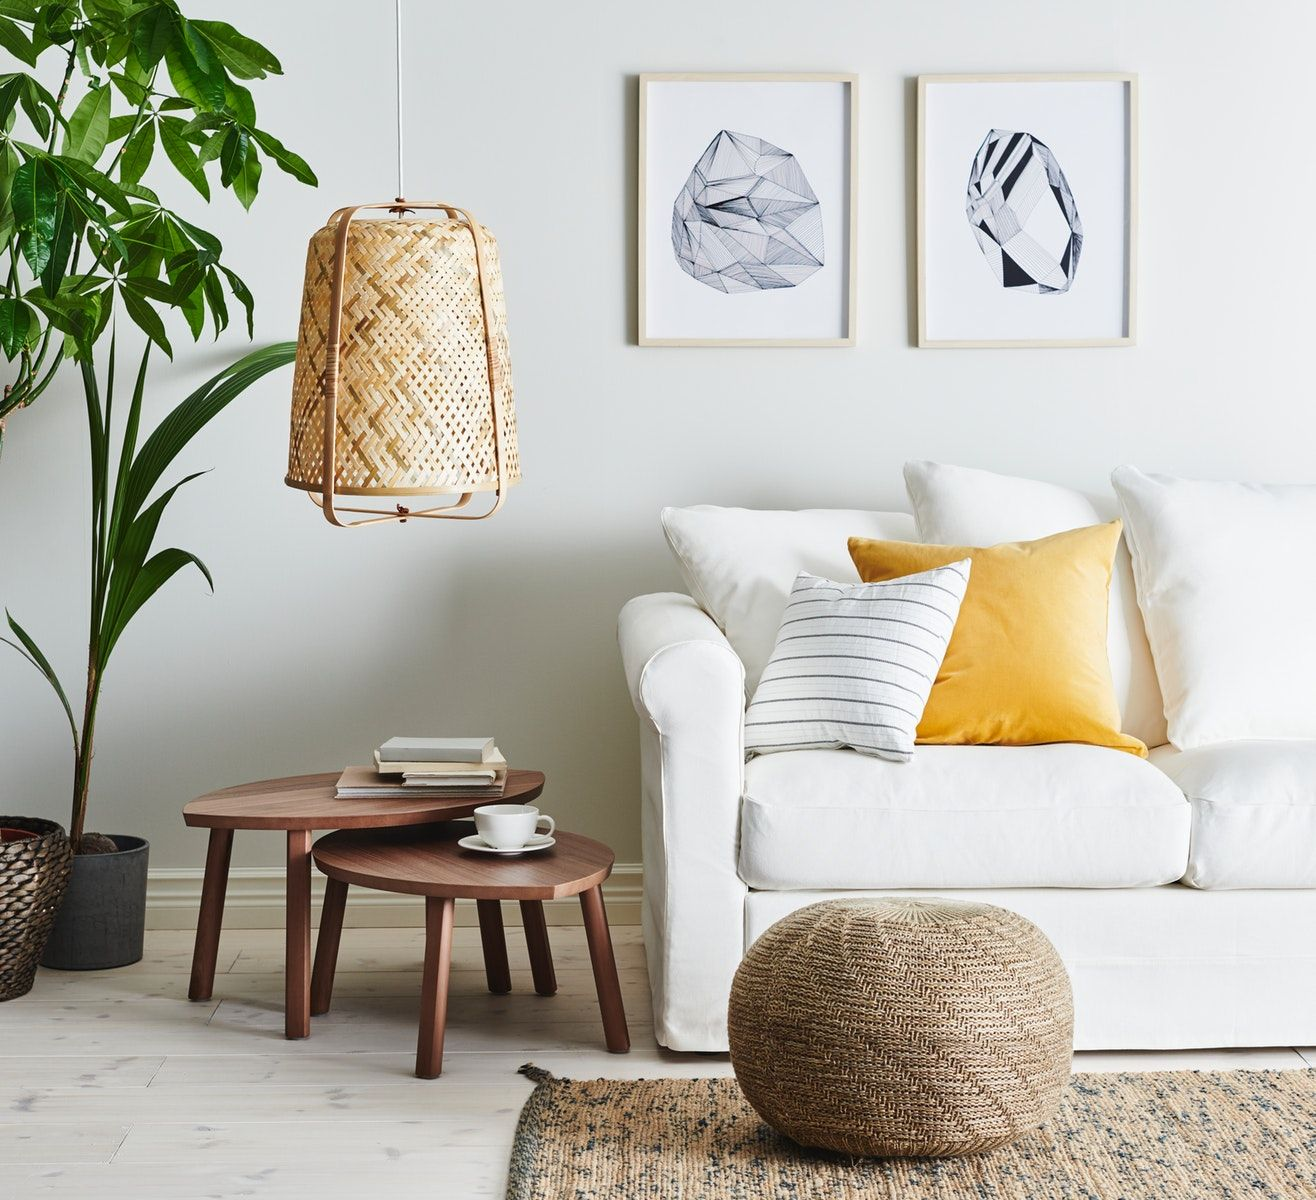bantal: (880, 527, 1133, 750), (1126, 473, 1316, 745), (755, 574, 953, 764)
buku: (340, 726, 508, 803)
gelas: (457, 798, 561, 868)
lampu: (285, 1, 531, 546)
lukisan: (625, 68, 854, 355), (908, 69, 1137, 356)
meja: (171, 729, 549, 1072), (316, 832, 635, 1073)
sova: (620, 480, 1316, 1057)
tanaman: (1, 1, 275, 993), (36, 320, 188, 967)
